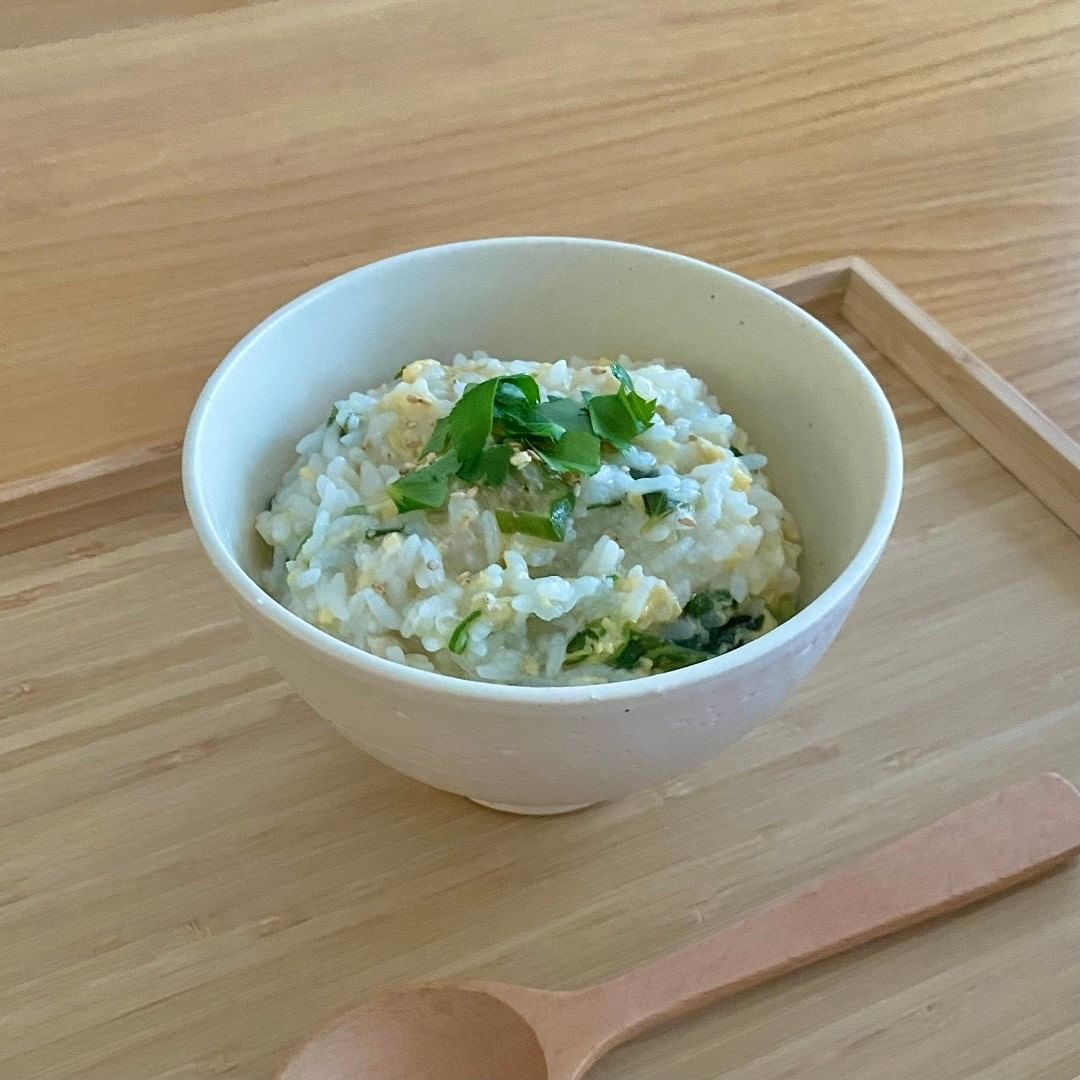人: (114, 192, 942, 819)
